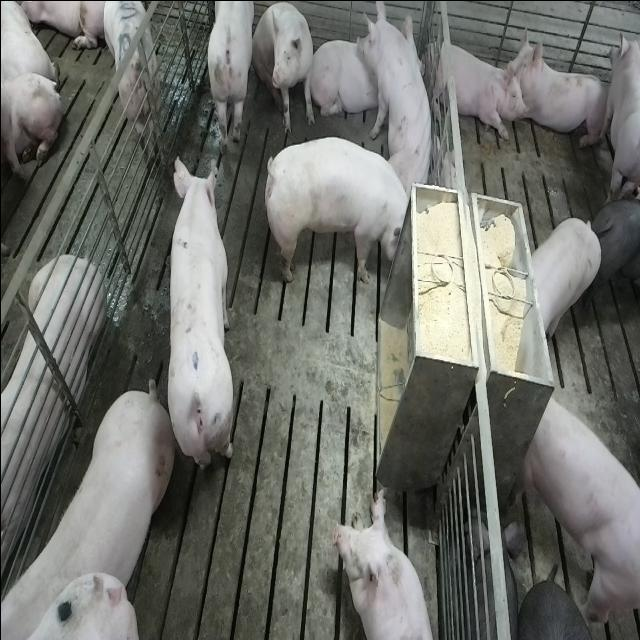Sitting: (358, 0, 435, 188), (252, 1, 316, 131)
Standing: (519, 390, 638, 630), (163, 153, 234, 480), (528, 215, 602, 340), (103, 1, 162, 154), (202, 2, 252, 152), (589, 190, 640, 313), (608, 24, 640, 204)
Sternal_lying: (0, 248, 102, 582), (332, 482, 437, 640), (510, 34, 612, 150), (424, 30, 523, 142), (310, 27, 382, 122)
